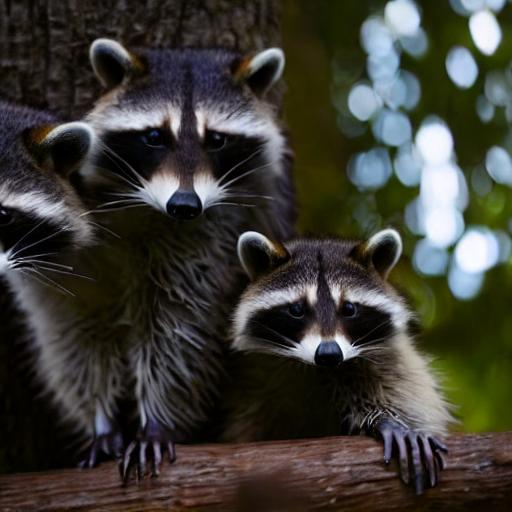raccoon: (80, 32, 299, 388), (233, 226, 456, 427), (0, 98, 118, 418)
